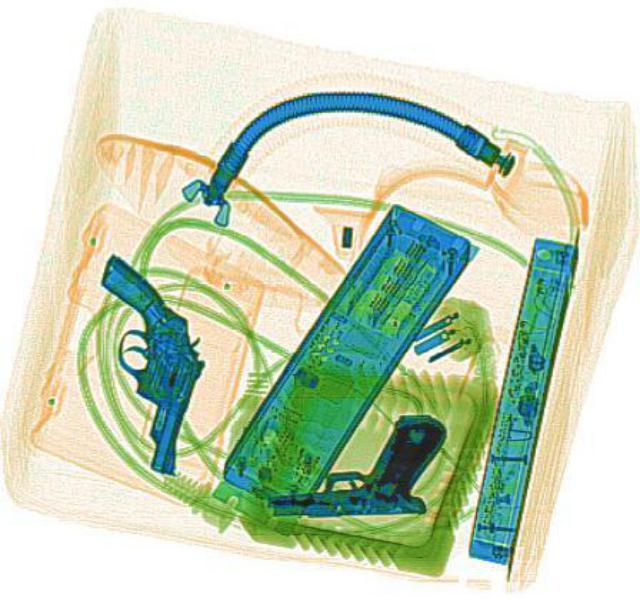Gun: (39, 251, 232, 470), (264, 411, 444, 515)
